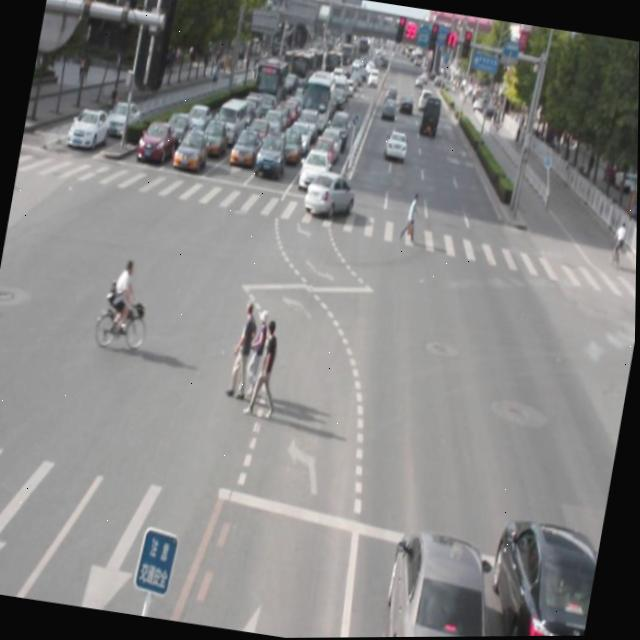car: (478, 513, 603, 637), (380, 526, 503, 638), (304, 168, 357, 222)
